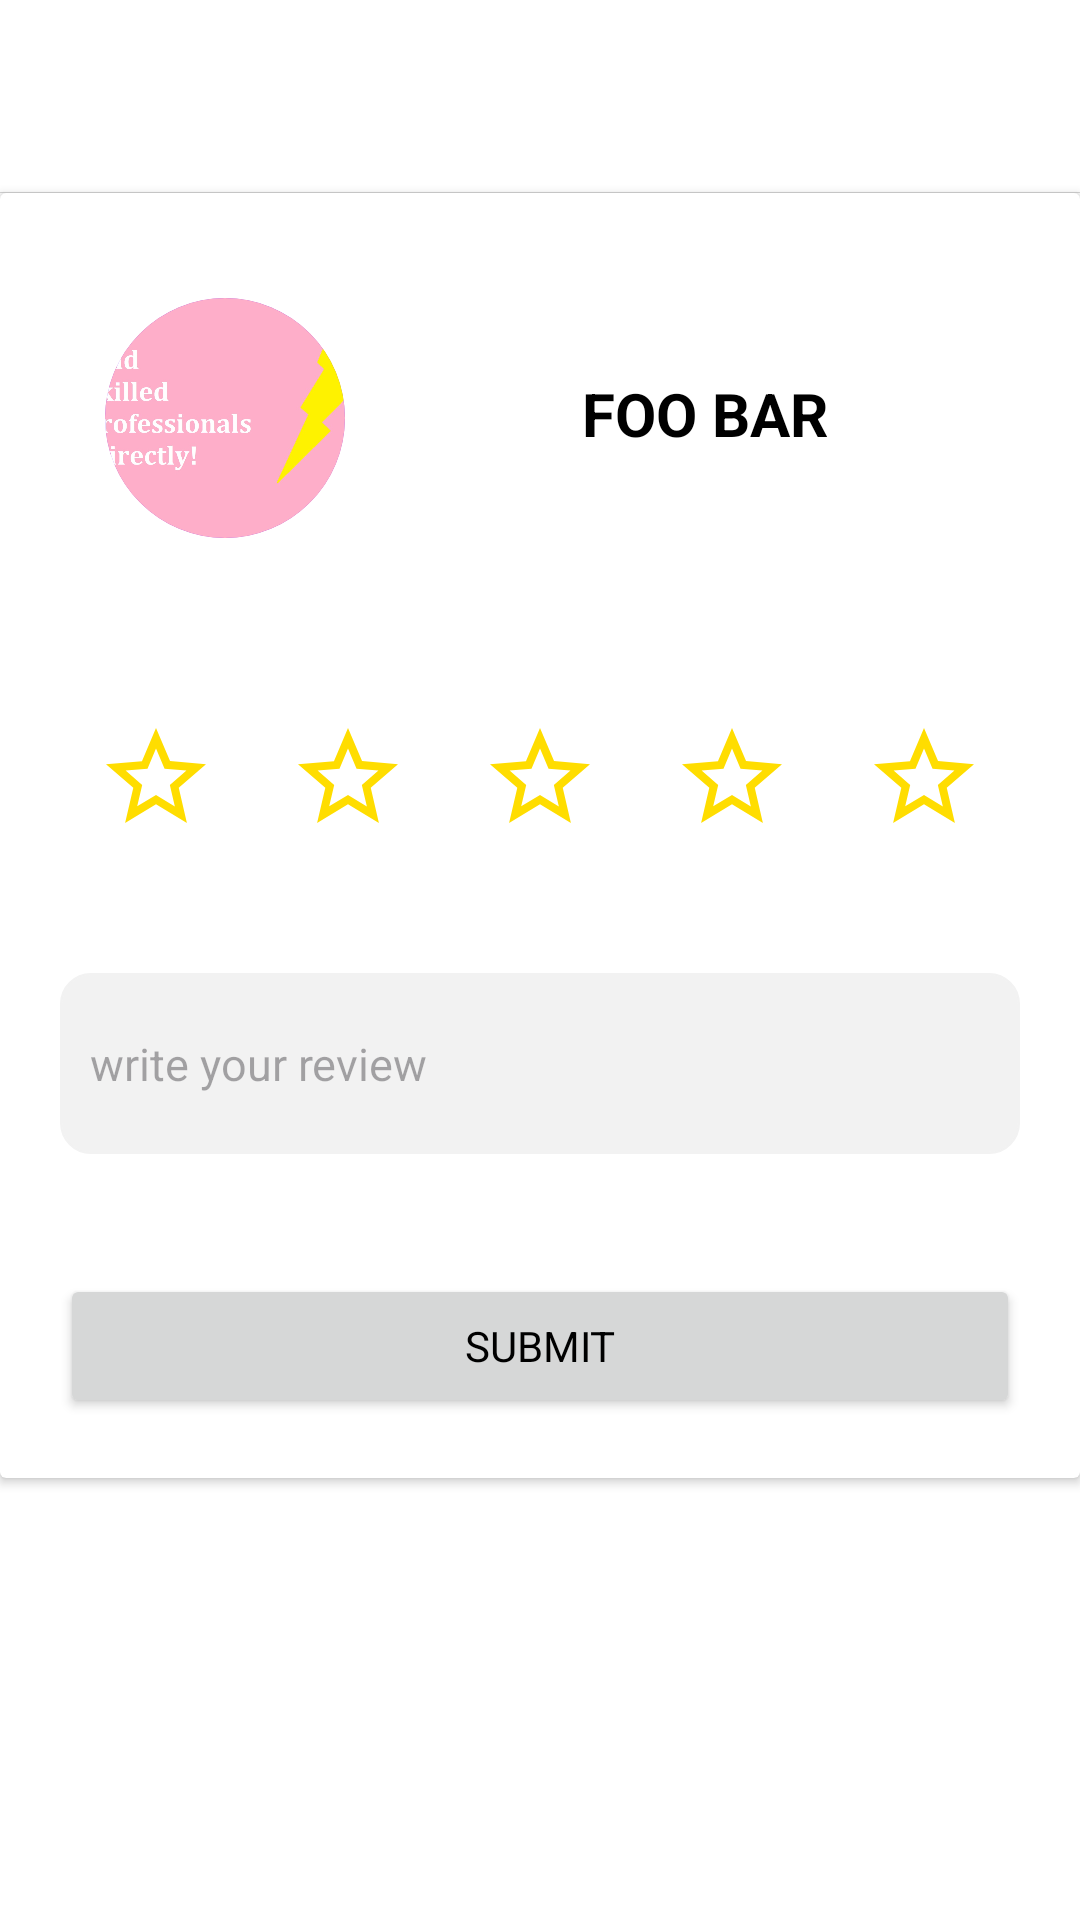

Where icons sit on this 1080x1920 app screen, as (x1, y1, x2, y2):
star: (106, 728, 206, 823), (298, 728, 398, 823), (490, 728, 590, 823), (682, 728, 782, 823), (874, 728, 974, 823)
